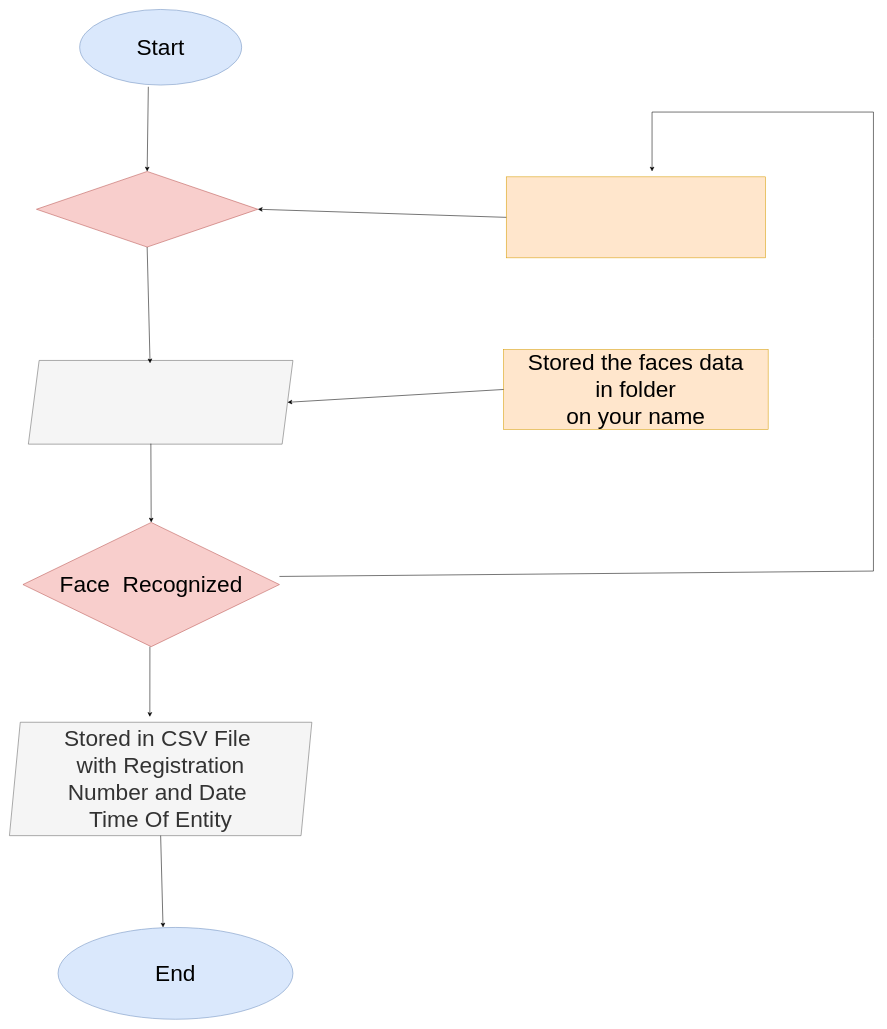
Some shapes in this 887 by 1029 pixel diagram are drawn without their labels. Here are the shapes that lost their labels. From the top down, the centre of each, then its label:
At (147,209): "New User".
At (635,217): "Give your photograph".
At (160,402): "Recognize The Face".
